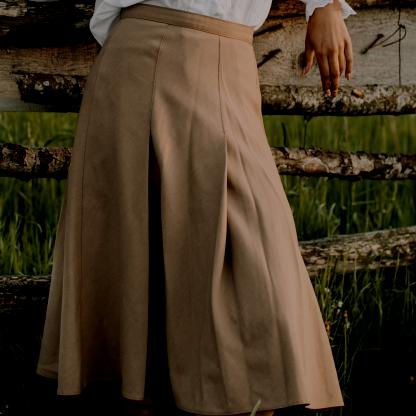dress: (28, 0, 348, 416)
